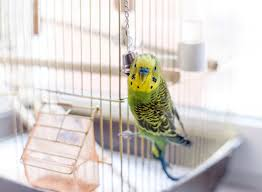budgie: (118, 51, 190, 182)
